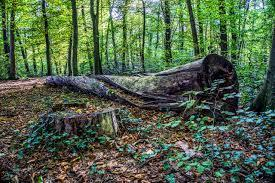Downstairs: (43, 54, 246, 112)
